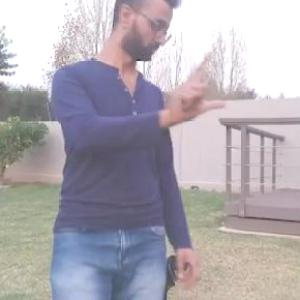land_hand: (166, 47, 228, 117)
